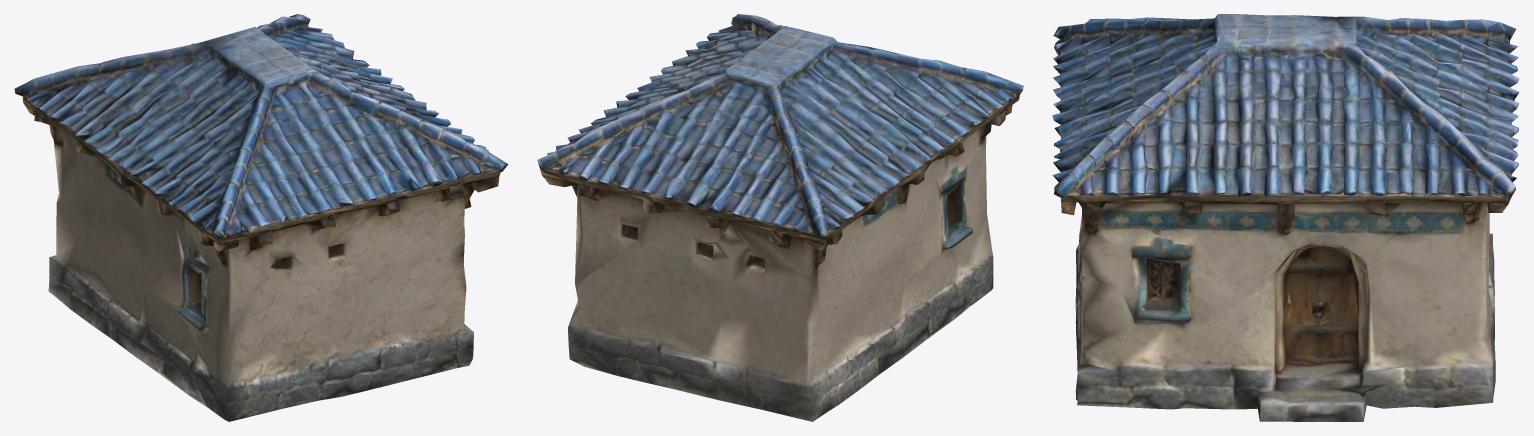
Rendered from house_cottage_0.glb.
3 views of the same model, side by side, from view 1: azimuth 30°, elevation 25°; view 2: azimuth 150°, elevation 25°; view 3: azimuth 270°, elevation 25° (orthographic). The views are drawn at different scales.
Parts seen in each view (by area): view 1: tripo_node_0d32273a-63ae-4ceb-8717-d3324743e121; view 2: tripo_node_0d32273a-63ae-4ceb-8717-d3324743e121; view 3: tripo_node_0d32273a-63ae-4ceb-8717-d3324743e121.
Boxes of the visible parts, x1=… form: tripo_node_0d32273a-63ae-4ceb-8717-d3324743e121: x1=14, y1=14, x2=508, y2=421; tripo_node_0d32273a-63ae-4ceb-8717-d3324743e121: x1=537, y1=14, x2=1023, y2=421; tripo_node_0d32273a-63ae-4ceb-8717-d3324743e121: x1=1052, y1=14, x2=1519, y2=421.
Size of the model in its own units: 0.8225 by 0.7245 by 0.9811.
Materials: 1 (1 with a texture image).
